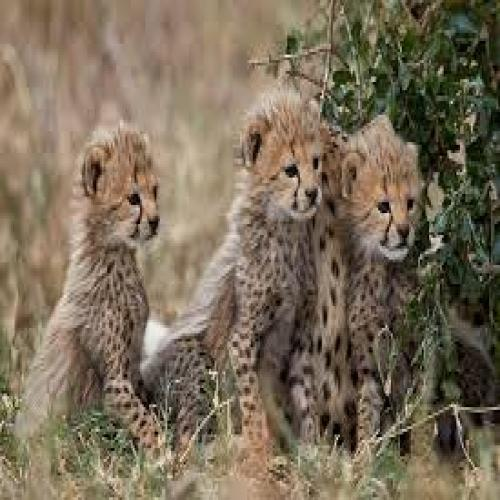cheetah-endangered: (137, 96, 324, 448), (16, 123, 161, 458), (298, 139, 425, 462)
